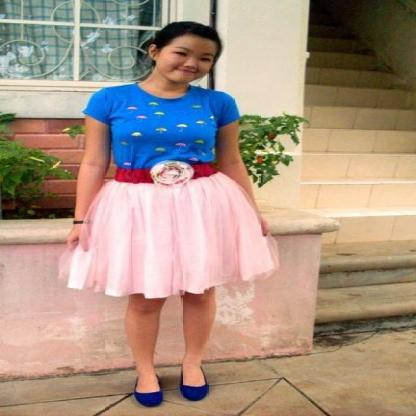shirt: (83, 84, 239, 168)
shoe: (137, 382, 208, 407)
skirt: (67, 175, 274, 297)
